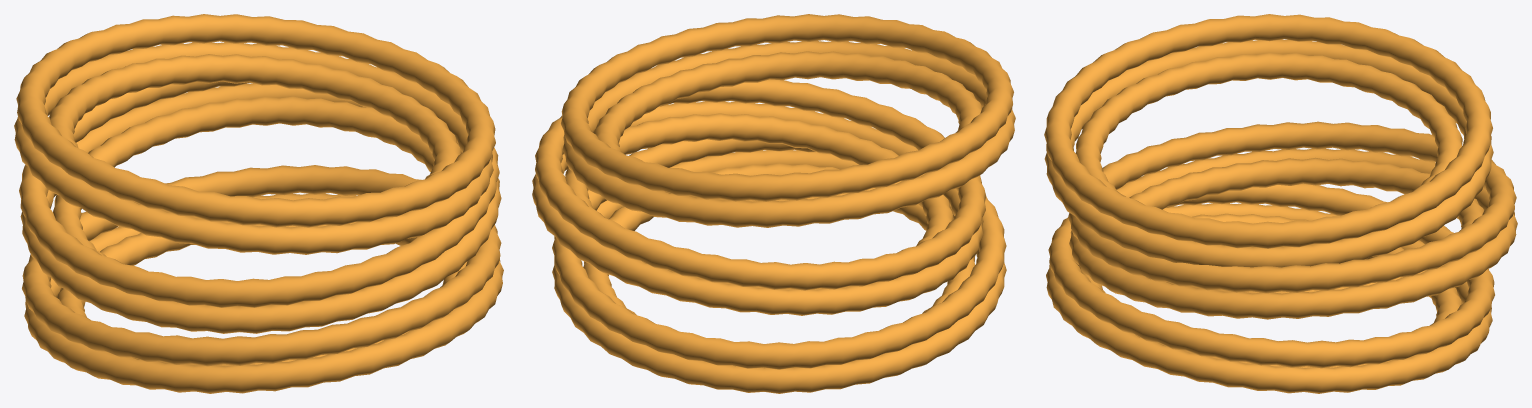
The model's file is ELE-ELD-002_anim.glb.
The picture shows the model from 3 angles, left to right: view 1: azimuth 30°, elevation 25°; view 2: azimuth 150°, elevation 25°; view 3: azimuth 270°, elevation 25°; orthographic projection. The views are drawn at different scales.
Parts seen in each view (by area): view 1: ELE-ELD-002_anim2, ELE-ELD-002_anim1, ELE-ELD-002_anim0; view 2: ELE-ELD-002_anim2, ELE-ELD-002_anim1, ELE-ELD-002_anim0; view 3: ELE-ELD-002_anim2, ELE-ELD-002_anim1, ELE-ELD-002_anim0.
Part boxes in pixels (x1,y1,x2,y2): ELE-ELD-002_anim2: [14, 14, 495, 254]; ELE-ELD-002_anim1: [19, 74, 501, 333]; ELE-ELD-002_anim0: [22, 165, 503, 393]; ELE-ELD-002_anim2: [561, 14, 1015, 227]; ELE-ELD-002_anim1: [532, 79, 986, 315]; ELE-ELD-002_anim0: [552, 139, 1006, 393]; ELE-ELD-002_anim2: [1044, 14, 1493, 267]; ELE-ELD-002_anim1: [1068, 121, 1517, 319]; ELE-ELD-002_anim0: [1046, 183, 1494, 393].
Size of the model in its own units: 0.5568 by 0.2908 by 0.5621.
